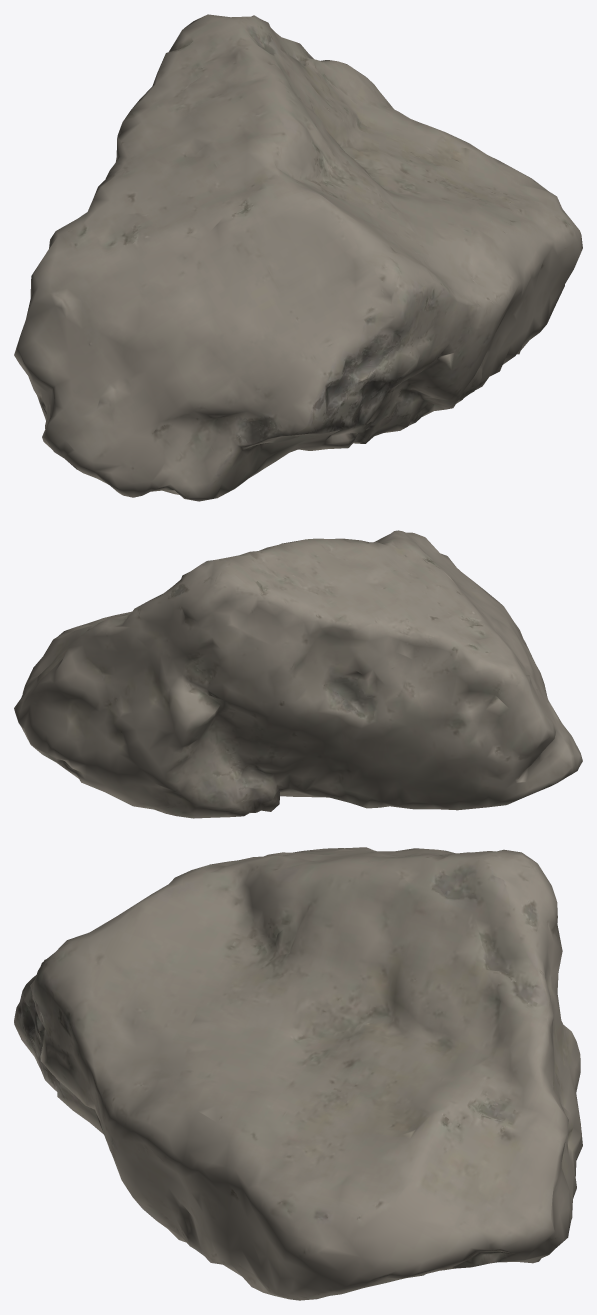
File: stone_a.glb
3 views of the same model, one above another, from view 1: azimuth 30°, elevation 25°; view 2: azimuth 150°, elevation 25°; view 3: azimuth 270°, elevation 25° (orthographic). The views are drawn at different scales.
Parts seen in each view (by area): view 1: moon_rock_03_LOD0; view 2: moon_rock_03_LOD0; view 3: moon_rock_03_LOD0.
Part boxes in pixels (x1,y1,x2,y2): moon_rock_03_LOD0: (14, 14, 582, 501); moon_rock_03_LOD0: (14, 530, 582, 818); moon_rock_03_LOD0: (14, 847, 582, 1300).
Size of the model in its own units: 0.112 by 0.0582 by 0.0861.
Materials: 1 (1 with a texture image).
